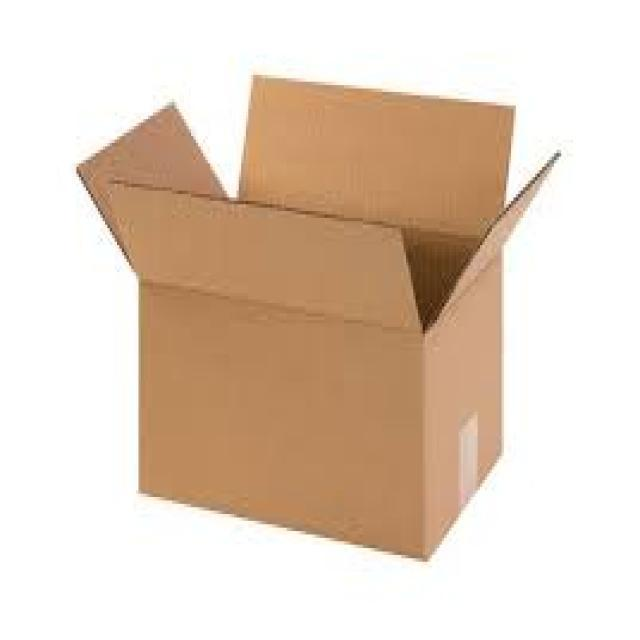Cardboard: (76, 71, 565, 560)
